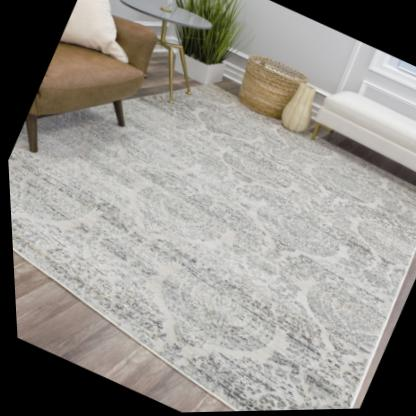Carpet: (7, 83, 416, 412)
